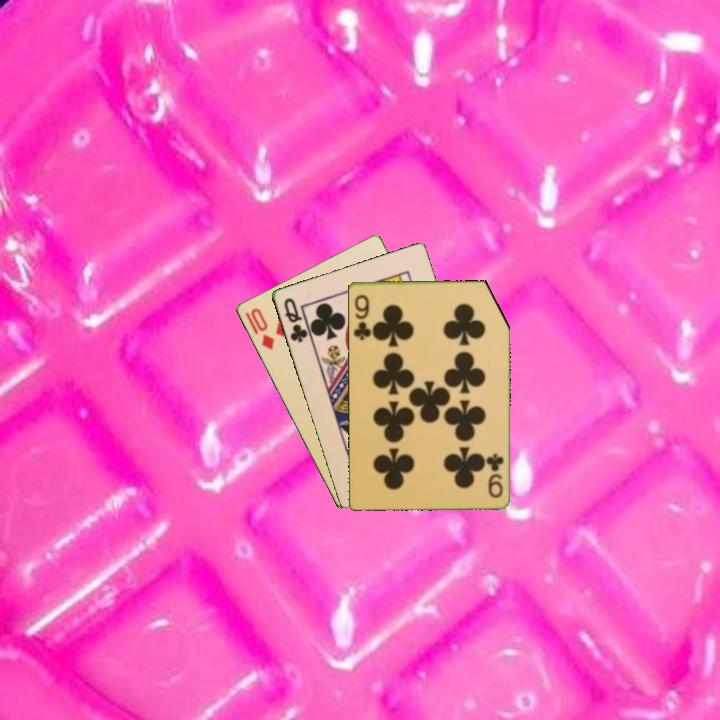10d: (241, 304, 277, 353)
9c: (350, 291, 373, 342), (483, 450, 506, 500)
Qc: (280, 294, 310, 345)
